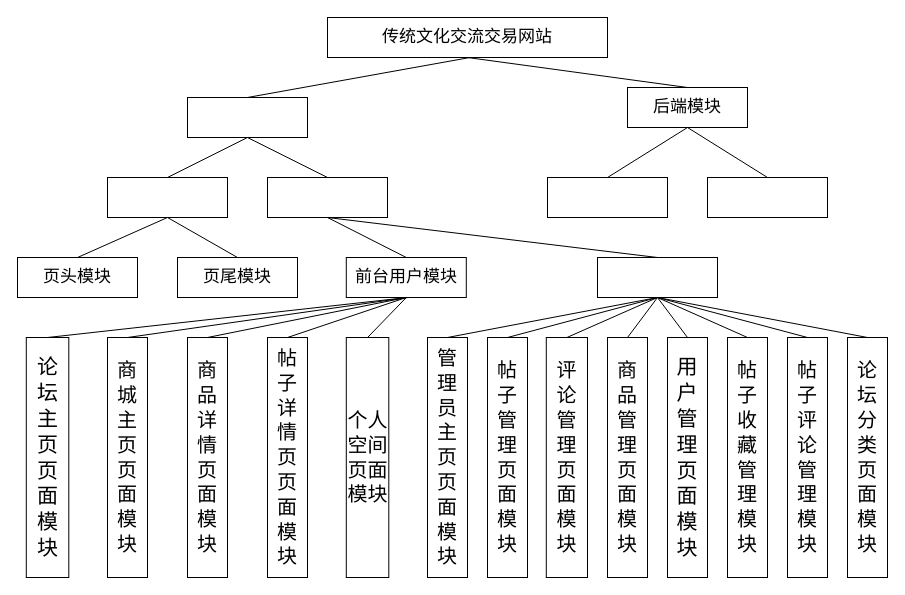
This 905x595 diagram has some shape labels left out. The shapes that lost their labels are listed below. From the top down, each one's centre as x and y in pixels, then its label:
At [247,117]: "前端模块".
At [167,197]: "通用文件模块".
At [327,197]: "其他页面模块".
At [607,197]: "数据库数据表模块".
At [767,197]: "数据库连接 模块".
At [657,277]: "后台管理模块".
